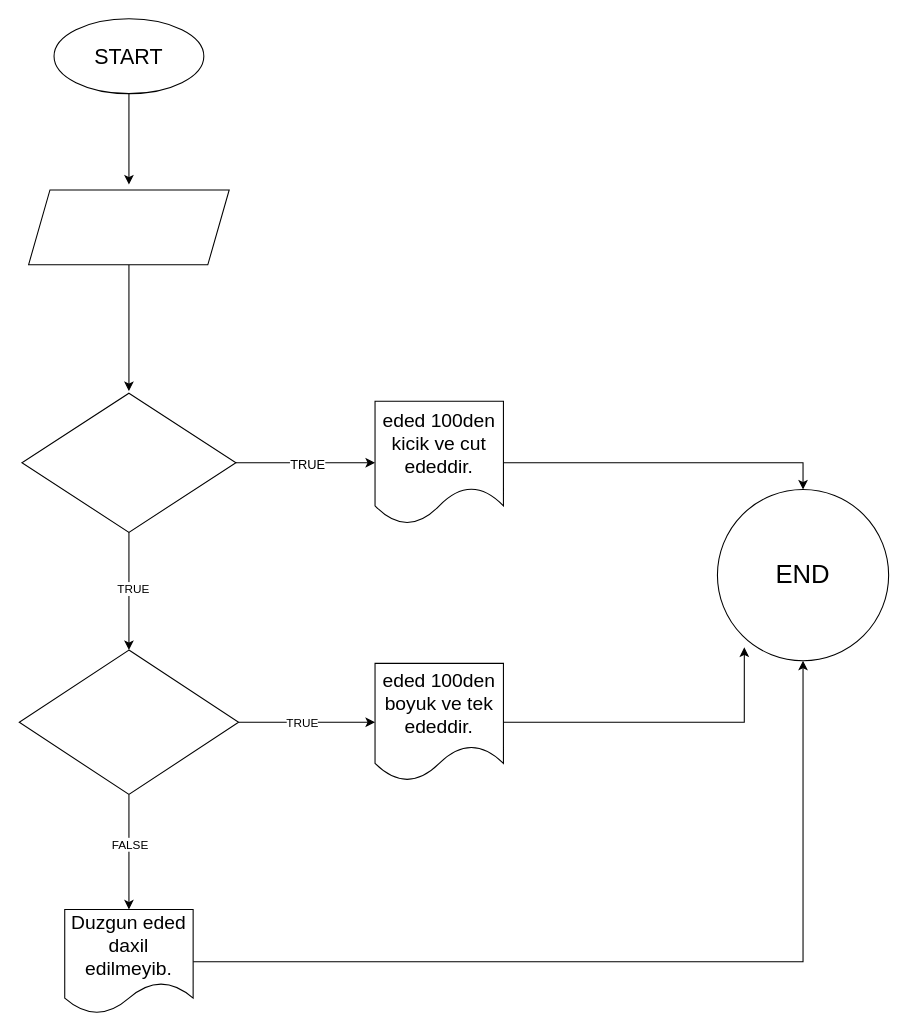
This 907x1033 diagram has some shape labels left out. The box of each missing label's shape, as (x1, y1, x2, y2) in pixels:
number: (27, 189, 229, 265)
number %2 !==0 $$ number>100: (18, 649, 239, 794)
number %2==0 && number<100: (21, 392, 236, 532)
